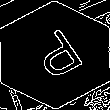P_SE: (22, 24, 88, 86)
